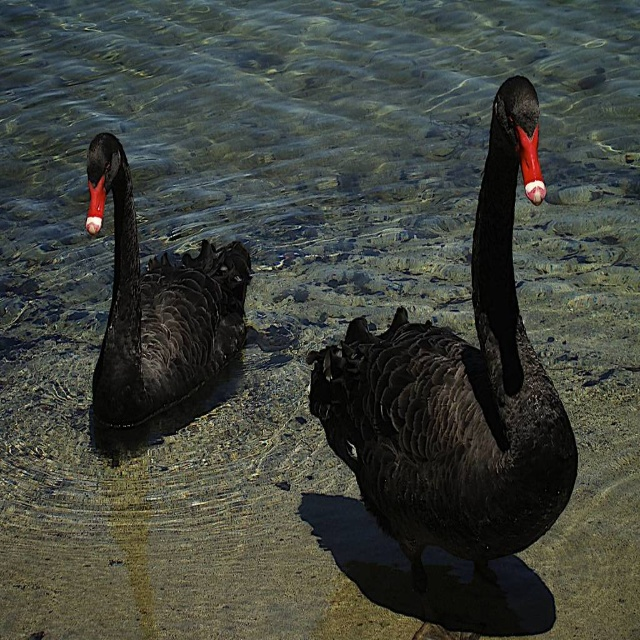Swan: (306, 75, 578, 592), (86, 132, 251, 424)
